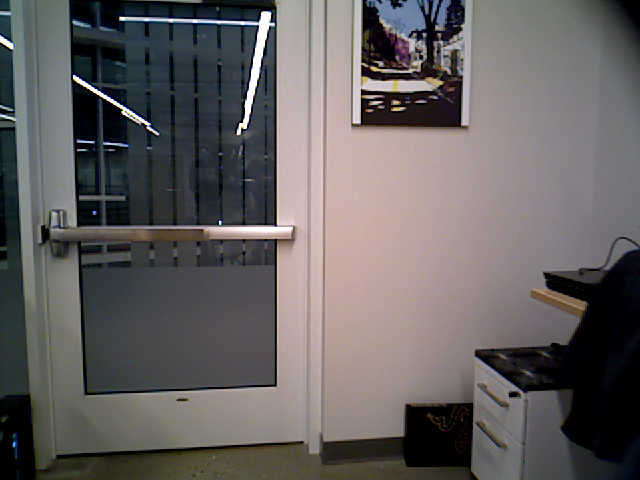painting3: (354, 1, 467, 126)
